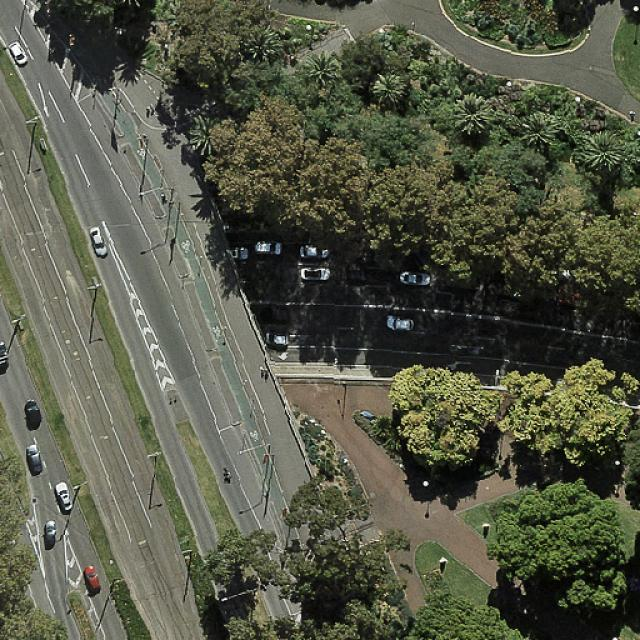Bike-Symbols: (180, 239, 192, 255), (211, 325, 223, 339), (248, 429, 260, 443), (136, 148, 148, 160)
